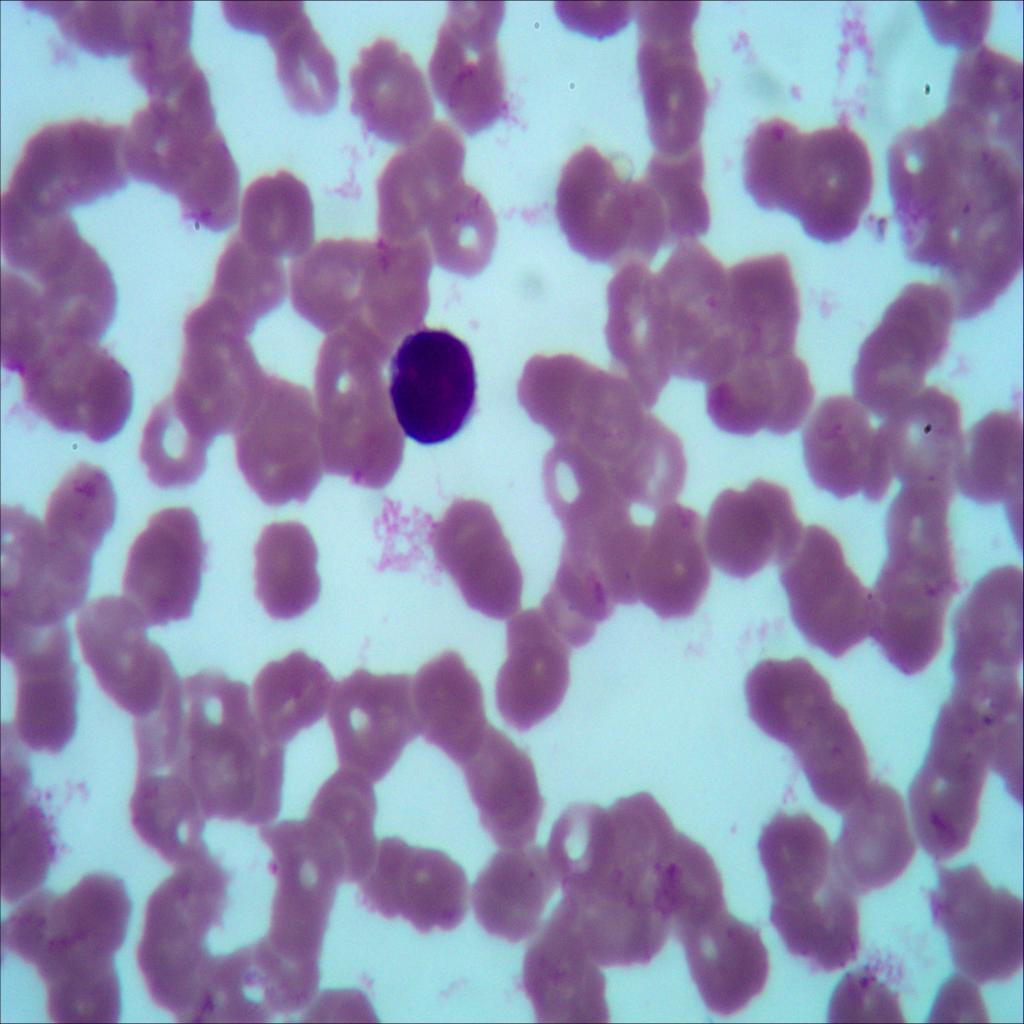Limfoblast: (377, 320, 481, 450)
